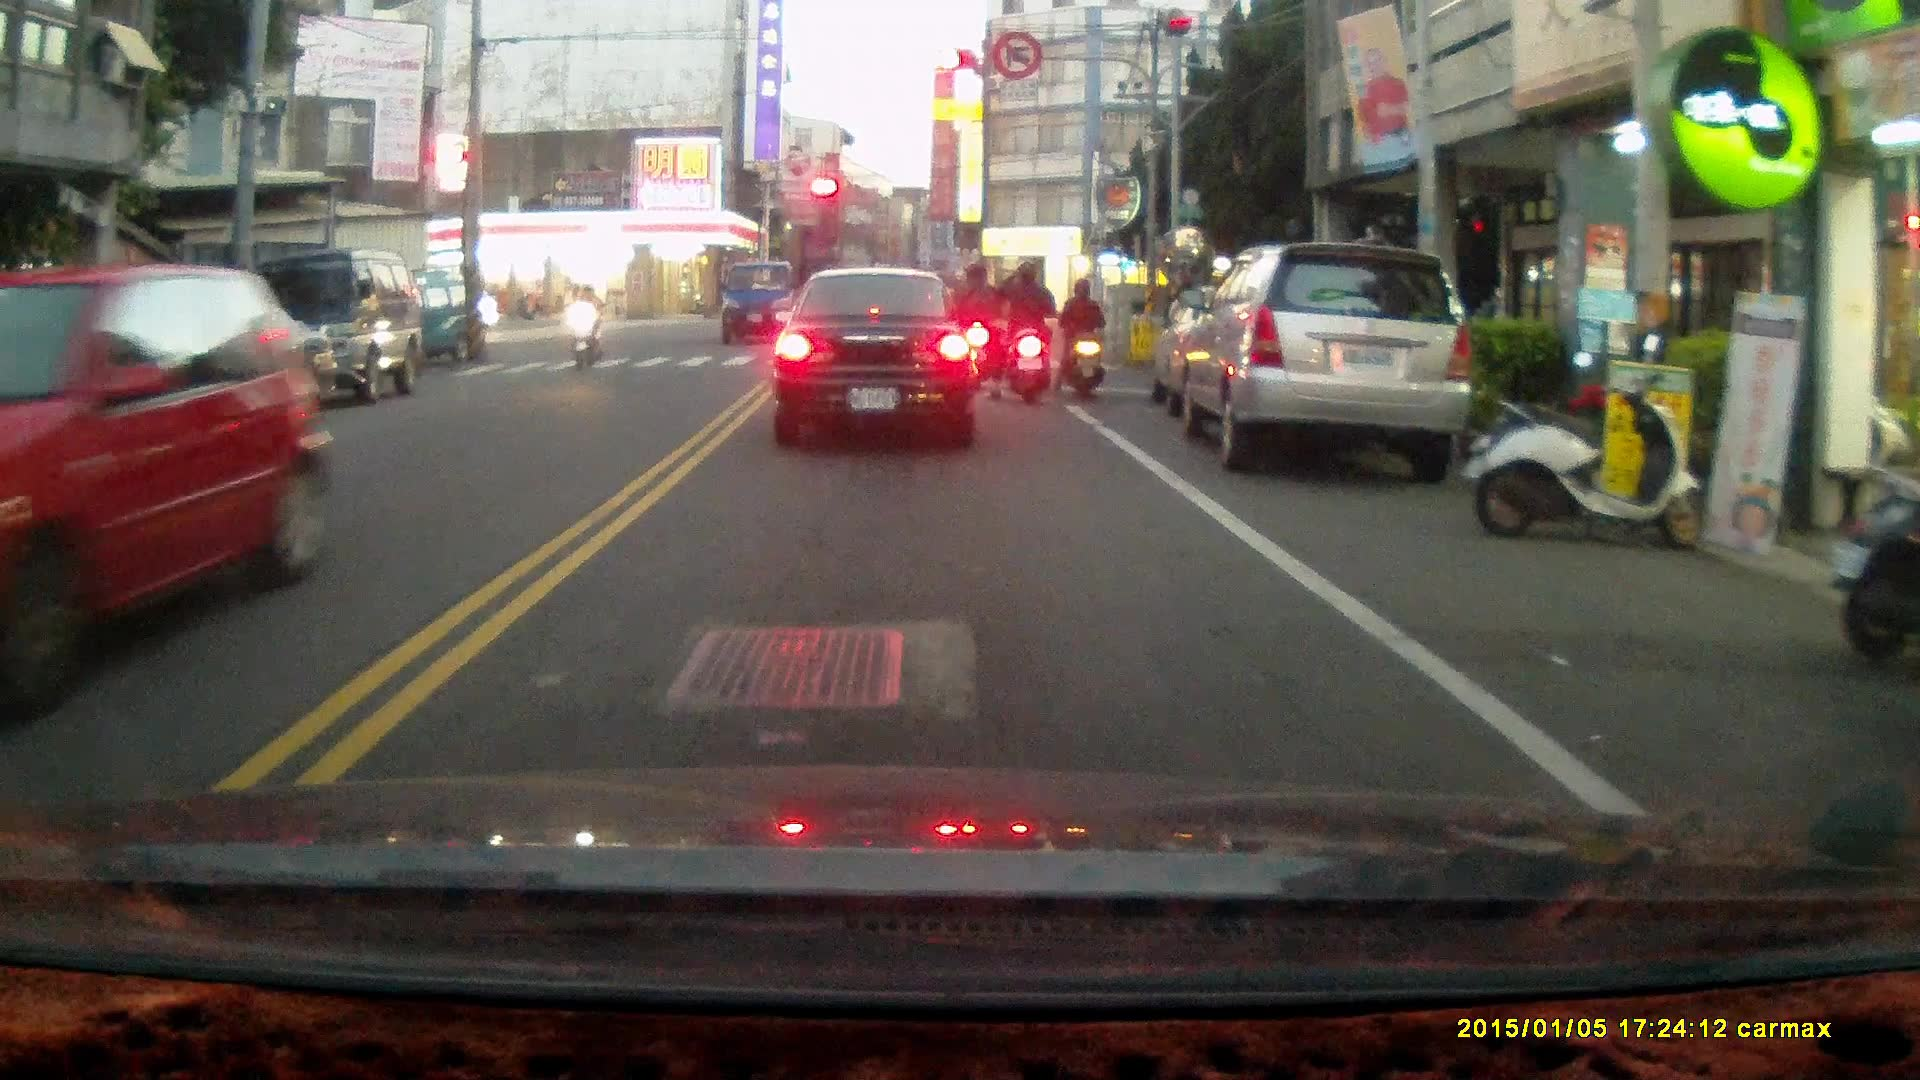rider: (988, 258, 1058, 409), (1052, 274, 1107, 399), (948, 263, 997, 388), (570, 282, 602, 373)
vehicle: (1, 264, 337, 679), (1166, 242, 1467, 474), (776, 267, 983, 447), (218, 247, 420, 405)
